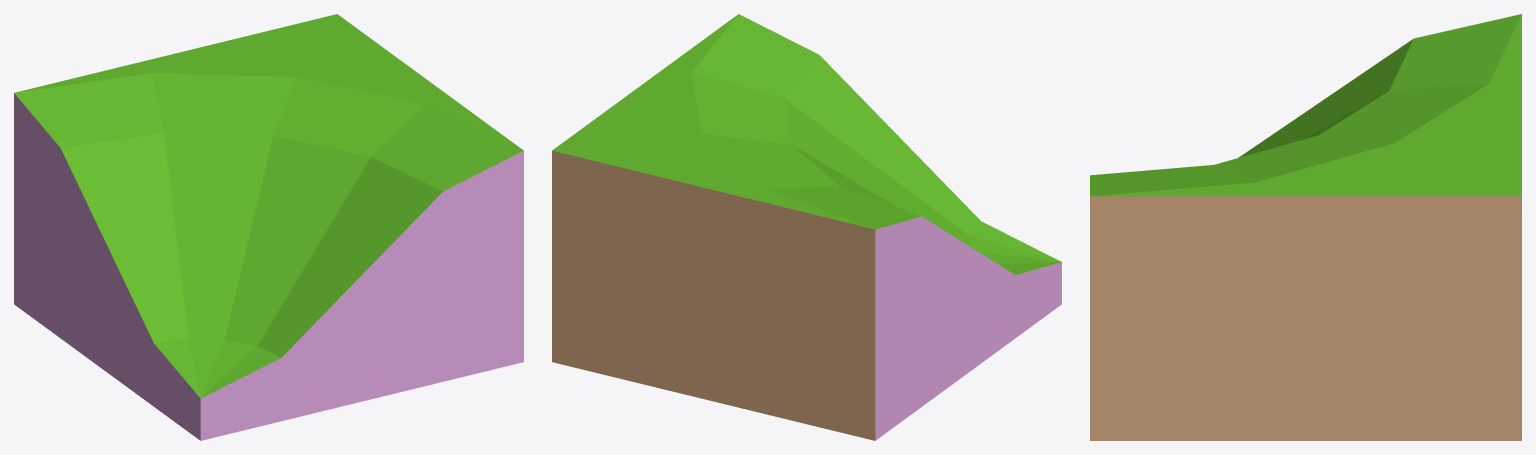
File: Grass_Hill_Sharp_Curve_Inner_2x2.glb
3 renders of one model, left to right at view 1: azimuth 30°, elevation 25°; view 2: azimuth 150°, elevation 25°; view 3: azimuth 270°, elevation 25°, orthographic. The views are drawn at different scales.
Parts seen in each view (by area): view 1: Grass_Hill_Sharp_Curve_Inner_2x2; view 2: Grass_Hill_Sharp_Curve_Inner_2x2; view 3: Grass_Hill_Sharp_Curve_Inner_2x2.
Part boxes in pixels (box(x1,y1,x2,y2)): Grass_Hill_Sharp_Curve_Inner_2x2: box(14, 14, 523, 440); Grass_Hill_Sharp_Curve_Inner_2x2: box(552, 14, 1061, 440); Grass_Hill_Sharp_Curve_Inner_2x2: box(1090, 14, 1521, 440).
Size of the model in its own units: 200 by 125 by 200.
